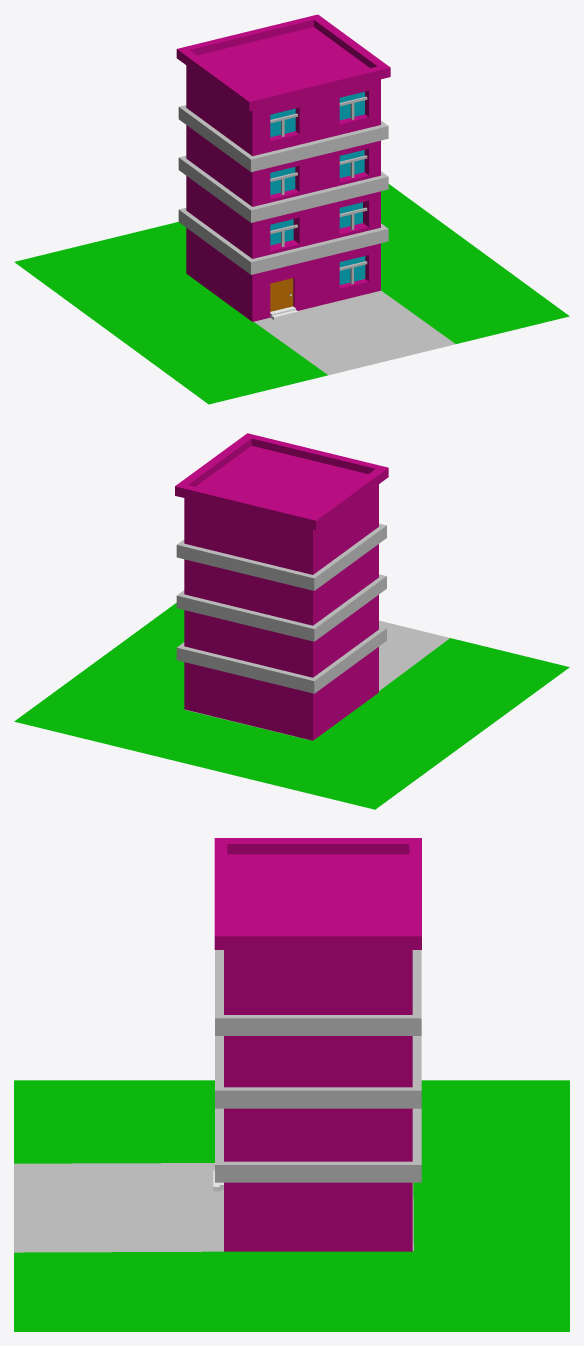
File: house_pink.obj
3 views of the same model, one above another, from view 1: azimuth 30°, elevation 25°; view 2: azimuth 150°, elevation 25°; view 3: azimuth 270°, elevation 25° (orthographic). The views are drawn at different scales.
Visible parts, largest first — view 1: Cube.014_Cube.010, Plane.005_Plane.008, Cube.015_Cube.011, Plane.004_Plane.007, Cube.017_Cube.013, Cube.019_Cube.015, Cube.016_Cube.012; view 2: Cube.014_Cube.010, Plane.005_Plane.008, Cube.015_Cube.011, Plane.004_Plane.007; view 3: Plane.005_Plane.008, Cube.014_Cube.010, Plane.004_Plane.007, Cube.015_Cube.011.
Boxes of the visible parts, x1,y1,x2,y2 form: Cube.014_Cube.010: (176,14,390,321); Plane.005_Plane.008: (14,184,569,404); Cube.015_Cube.011: (178,105,388,274); Plane.004_Plane.007: (254,290,455,375); Cube.017_Cube.013: (270,91,365,284); Cube.019_Cube.015: (270,96,367,246); Cube.016_Cube.012: (270,278,293,311); Cube.014_Cube.010: (175,433,388,740); Plane.005_Plane.008: (14,603,569,809); Cube.015_Cube.011: (176,523,386,693); Plane.004_Plane.007: (185,620,449,740); Plane.005_Plane.008: (14,1080,569,1331); Cube.014_Cube.010: (214,838,421,1251); Plane.004_Plane.007: (14,1163,413,1252); Cube.015_Cube.011: (215,950,421,1182).
Bounding box in the file's own units: 23.65 × 14.03 × 22.09.
